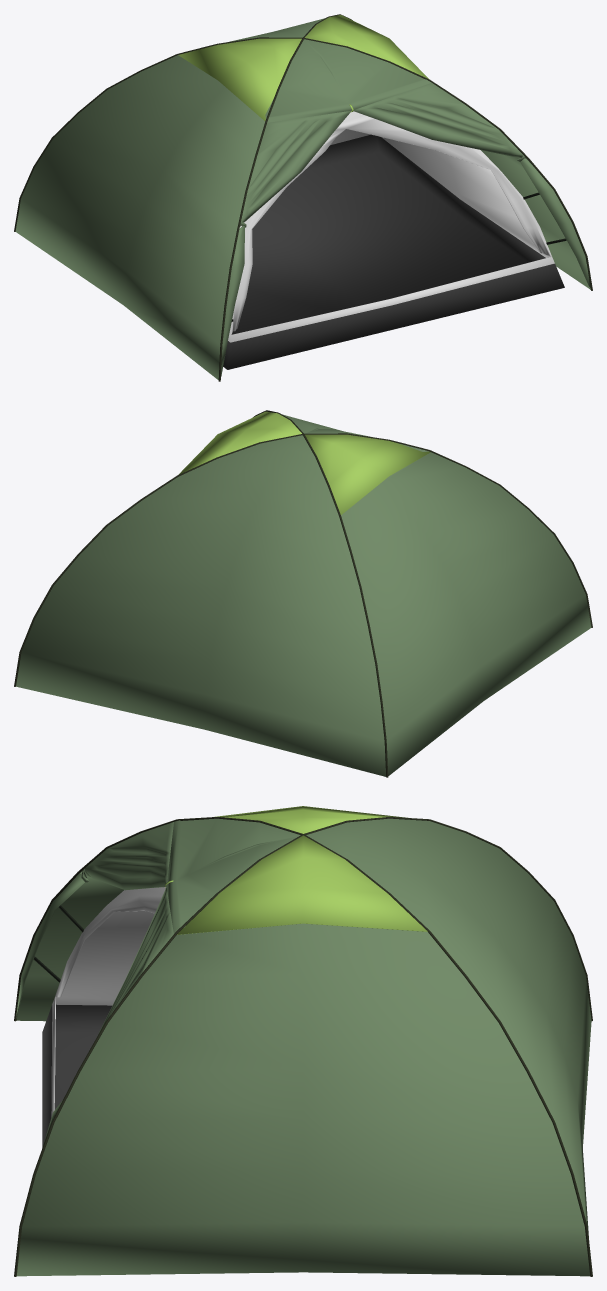
Rendered from tent.glb.
The picture shows the model from 3 angles, top to bottom: view 1: azimuth 30°, elevation 25°; view 2: azimuth 150°, elevation 25°; view 3: azimuth 270°, elevation 25°; orthographic projection. The views are drawn at different scales.
Visible parts, largest first — view 1: extTent_Cube.001; view 2: extTent_Cube.001; view 3: extTent_Cube.001.
Boxes of the visible parts, left/top/right/bottom form: extTent_Cube.001: left=14, top=14, right=592, bottom=381; extTent_Cube.001: left=14, top=410, right=592, bottom=777; extTent_Cube.001: left=14, top=806, right=592, bottom=1276.
Bounding box in the file's own units: 1.75 × 1 × 1.67.
